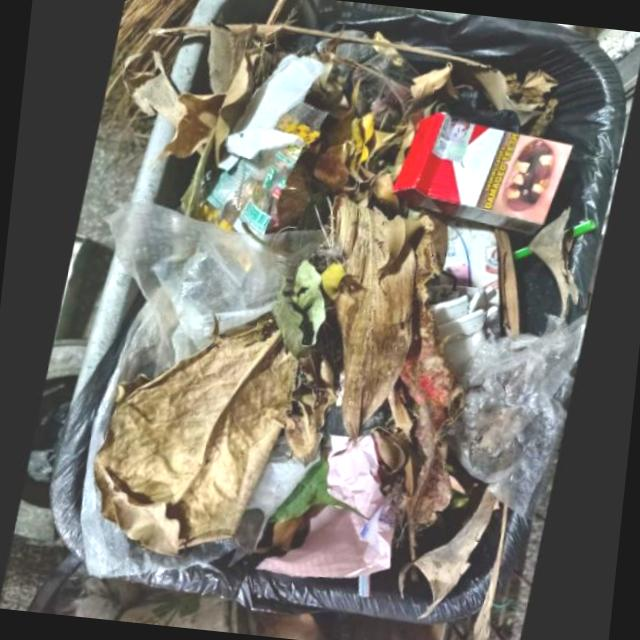bao_bi_thuc_pham: (193, 103, 319, 236)
carton: (384, 114, 565, 238)
giay: (254, 437, 393, 582), (214, 55, 316, 161)
la_cay: (90, 318, 291, 560), (314, 197, 423, 442), (357, 378, 464, 566), (122, 24, 251, 166)
tui_ni_long: (428, 288, 587, 513), (134, 201, 284, 365)
